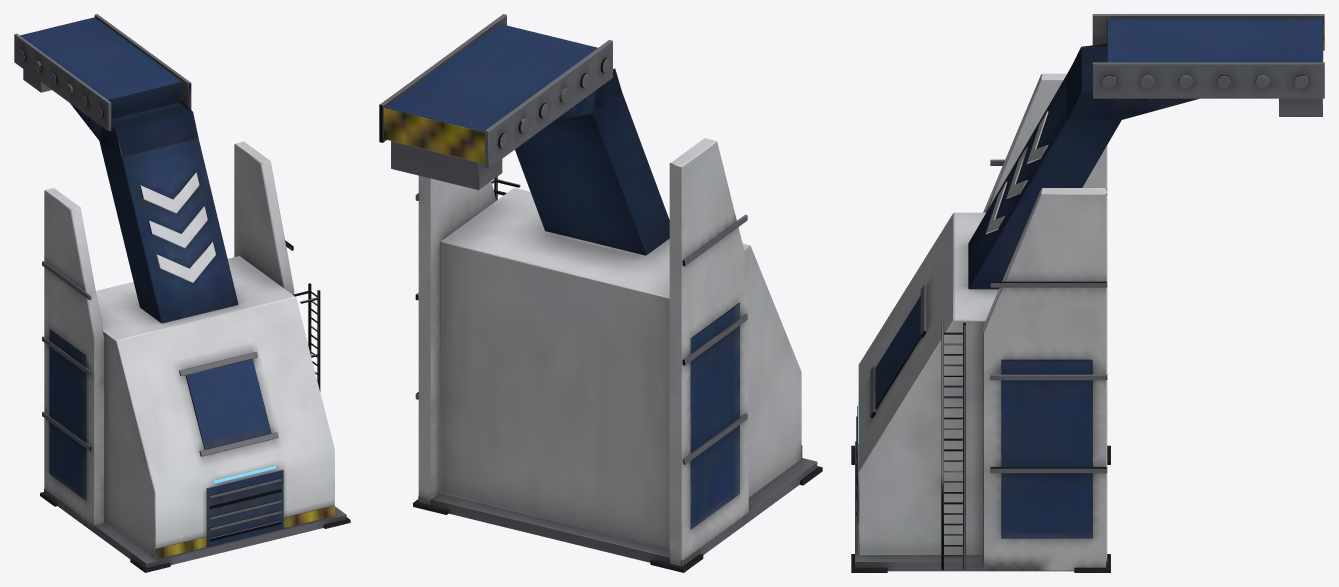
Rendered from 整備庫_37_物料艙.glb.
3 views of the same model, side by side, from view 1: azimuth 30°, elevation 25°; view 2: azimuth 150°, elevation 25°; view 3: azimuth 270°, elevation 25° (orthographic). The views are drawn at different scales.
Parts seen in each view (by area): view 1: Hopper_Mesh; view 2: Hopper_Mesh; view 3: Hopper_Mesh.
Boxes of the visible parts, bbox=[...] form: Hopper_Mesh: bbox=[14, 14, 350, 572]; Hopper_Mesh: bbox=[379, 14, 822, 572]; Hopper_Mesh: bbox=[851, 14, 1324, 572].
Bounding box in the file's own units: 8.24 × 14.26 × 12.95.
Materials: 2 (1 with a texture image).
